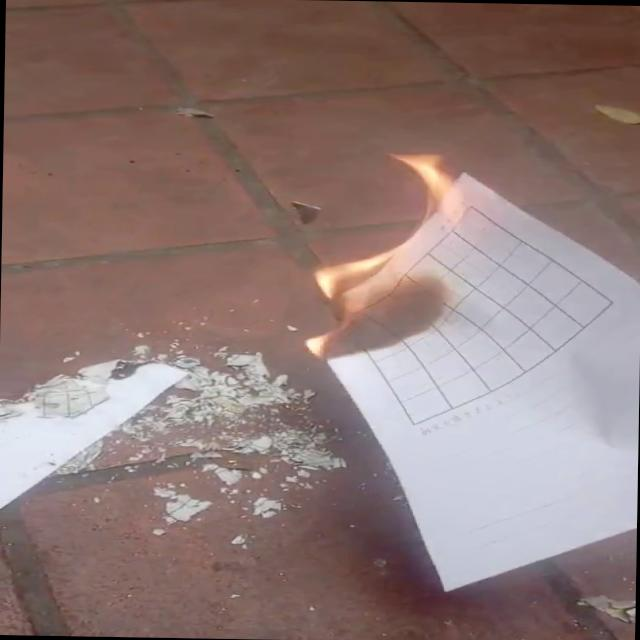Fire_Dangerous: (282, 149, 471, 358)
